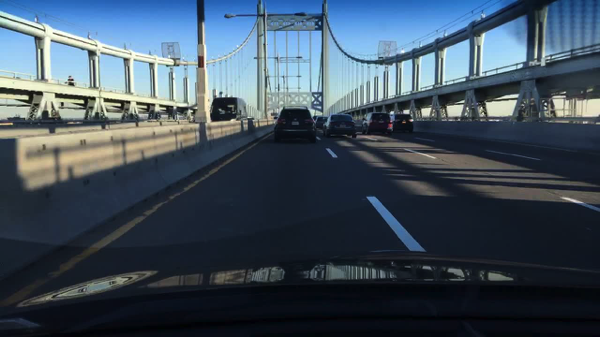car: (272, 105, 316, 143), (209, 96, 246, 121), (322, 113, 357, 138), (360, 112, 390, 135), (389, 113, 414, 133), (315, 116, 329, 130), (352, 118, 363, 133), (237, 115, 254, 121), (312, 115, 319, 120)
